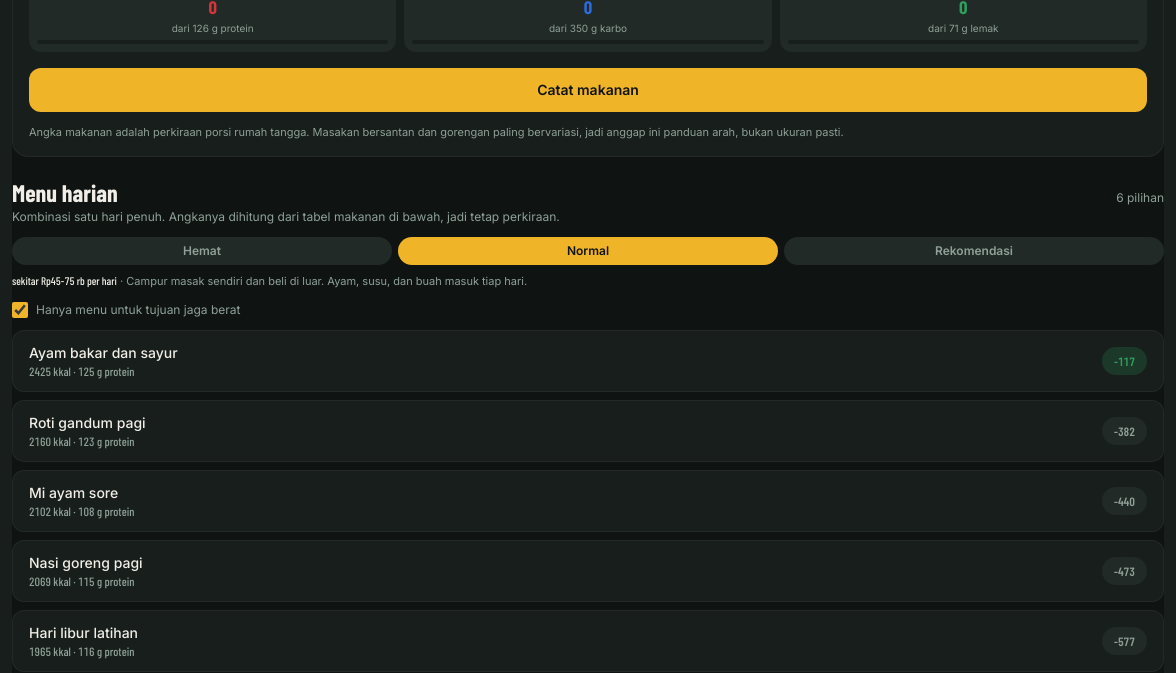
it: rincian satu menu › membuka menu menampilkan tiap waktu makan beserta porsinya
(page scrolled)
Step 1. Click the button "Ayam bakar dan sayur 2425 kkal · 125 g protein -117" → (103, 352), box [13, 330, 1163, 390]
(page scrolled)
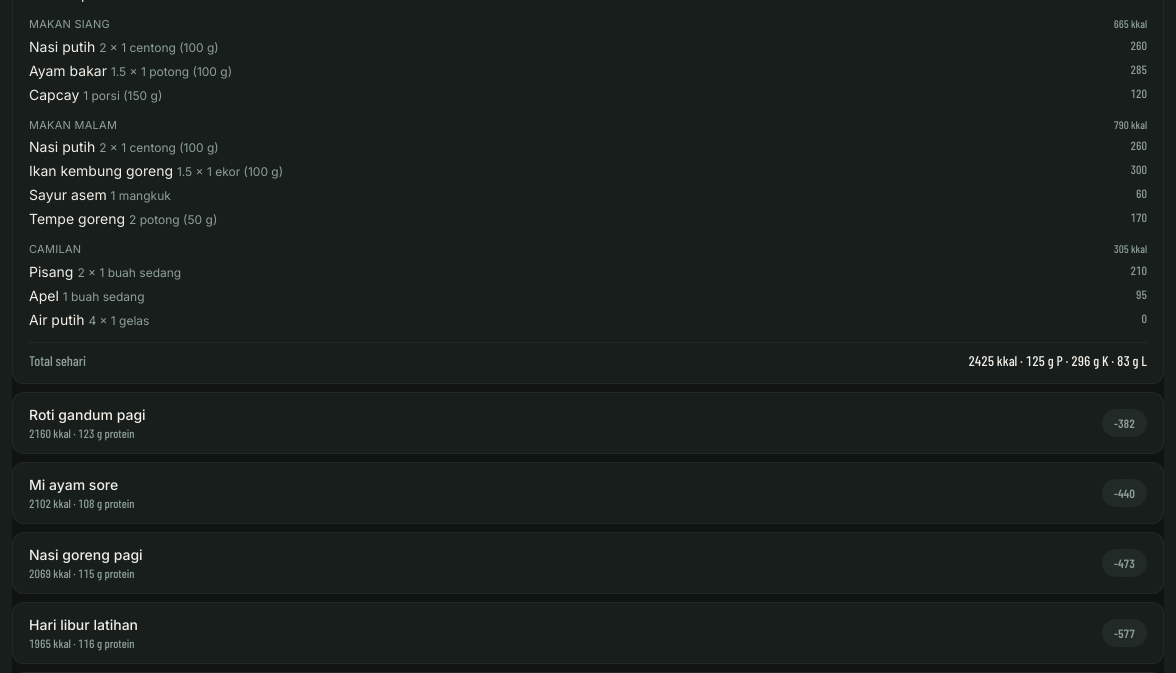
Expected: the heading "Makan siang" is shown, [29, 16, 110, 32]
Expected: the heading "Makan malam" is shown, [29, 116, 117, 133]
Expected: the heading "Camilan" is shown, [29, 241, 81, 258]
